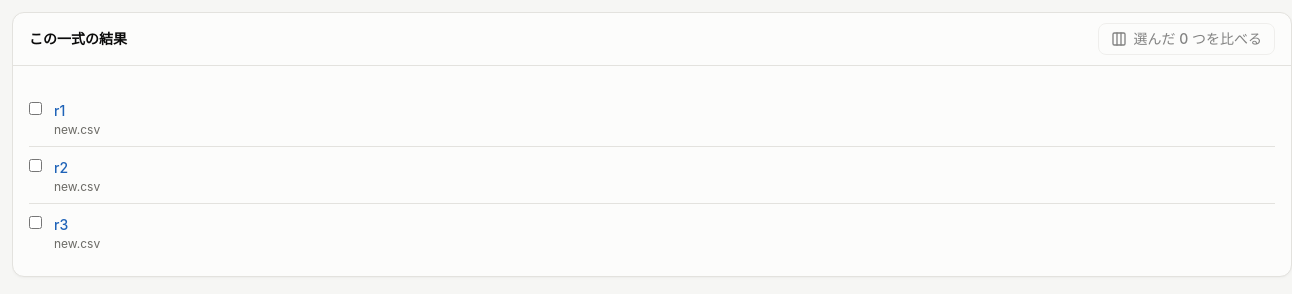
Test: 結果の一覧の枠で比べる結果を選ぶ › 2 つ選ぶと比べられ, 選んだ順ではなく一覧の順で比べの画面に移る
The image size is (1292, 294).
Expected: the button "選んだ 0 つを比べる" is disabled, top-left (1098, 23), bottom-right (1275, 55)
Click the checkbox named "r3 の結果を比べる".
click(36, 222)  # box top-left (29, 216), bottom-right (42, 229)
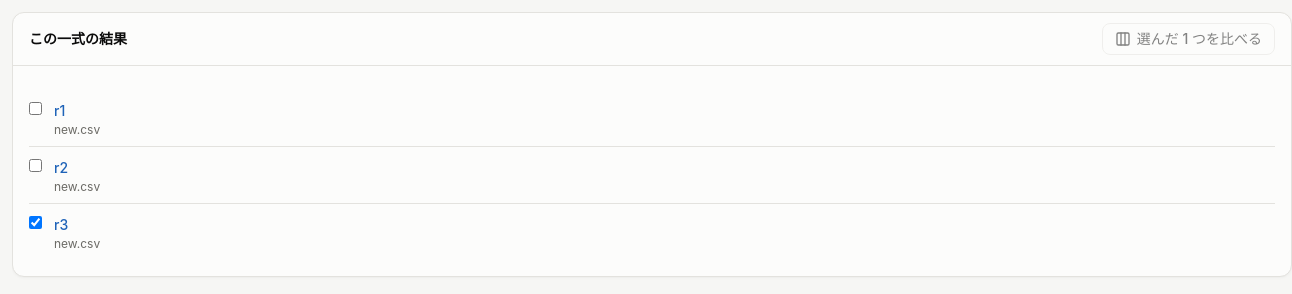
Expected: the button "選んだ 1 つを比べる" is disabled, top-left (1102, 23), bottom-right (1275, 55)
Click the checkbox named "r1 の結果を比べる".
click(36, 108)  # box top-left (29, 102), bottom-right (42, 115)
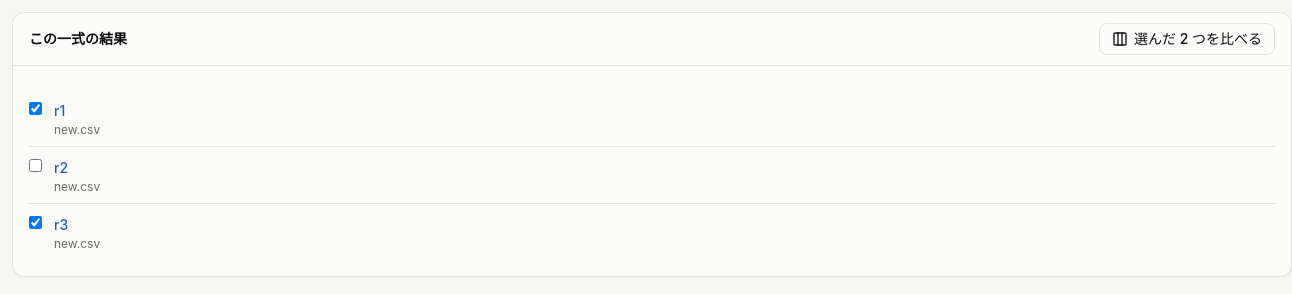
Now the button "選んだ 2 つを比べる" is shown
Now the button "選んだ 2 つを比べる" is enabled
Click the button "選んだ 2 つを比べる".
click(1187, 39)  # box top-left (1099, 23), bottom-right (1275, 55)
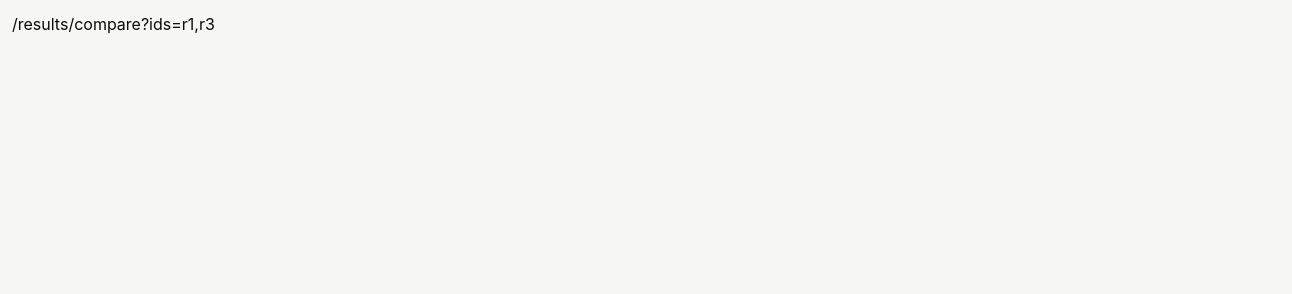
Now the text "/results/compare?ids=r1,r3" is shown, box top-left (12, 14), bottom-right (215, 34)
